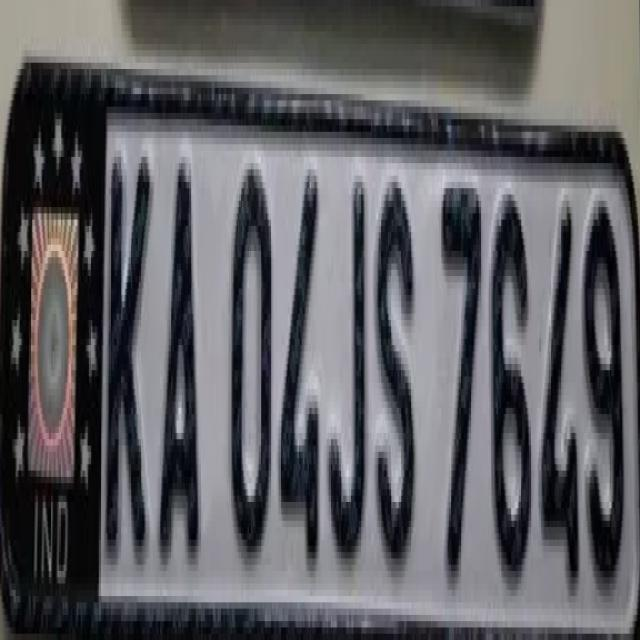0: (228, 129, 273, 582)
4: (278, 134, 326, 606), (535, 178, 581, 605)
6: (488, 170, 533, 588)
7: (436, 144, 481, 616)
9: (582, 185, 628, 608)
A: (158, 126, 202, 593)
J: (328, 156, 368, 594)
K: (102, 126, 154, 584)
S: (371, 174, 416, 582)
